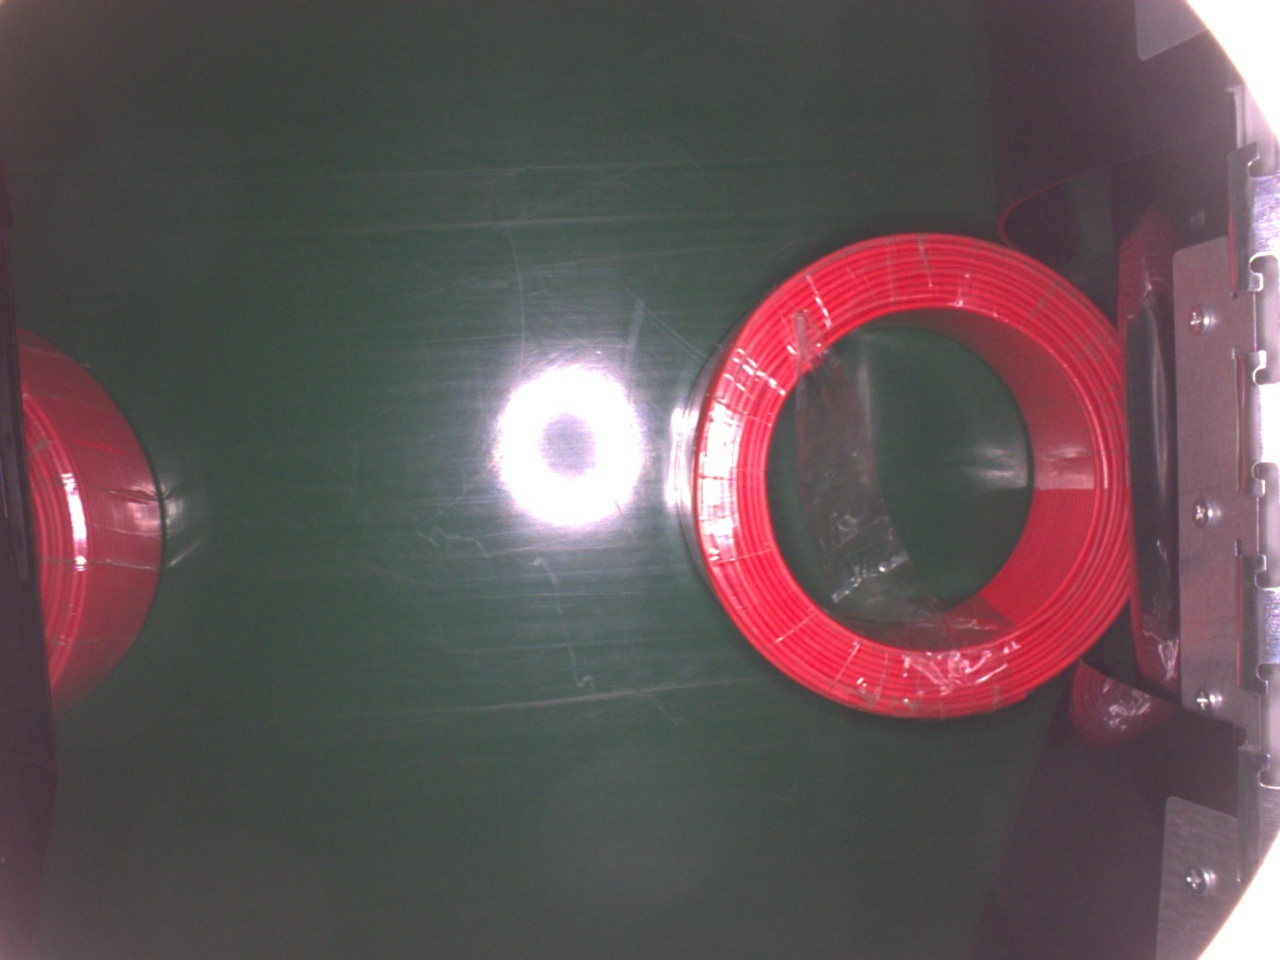red: (671, 230, 1134, 716), (15, 325, 168, 727)
